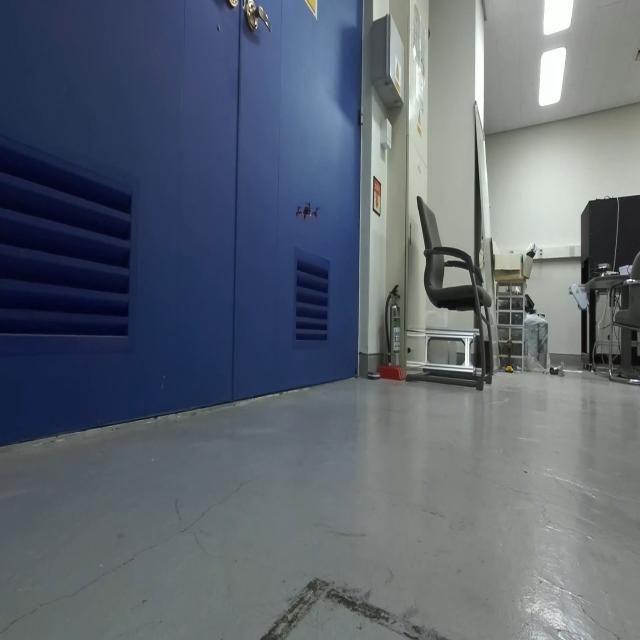crazyflie: (294, 195, 324, 230)
